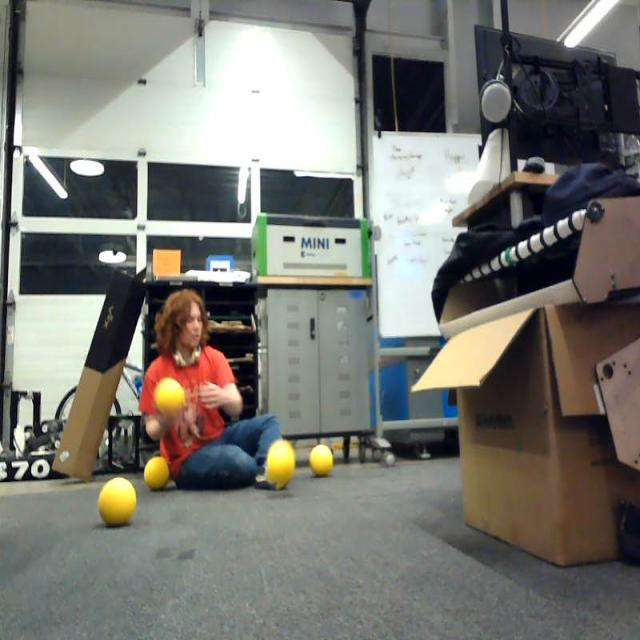Fuel: (99, 478, 136, 526), (268, 442, 294, 486), (157, 379, 184, 418), (144, 457, 169, 490), (310, 444, 332, 476)
